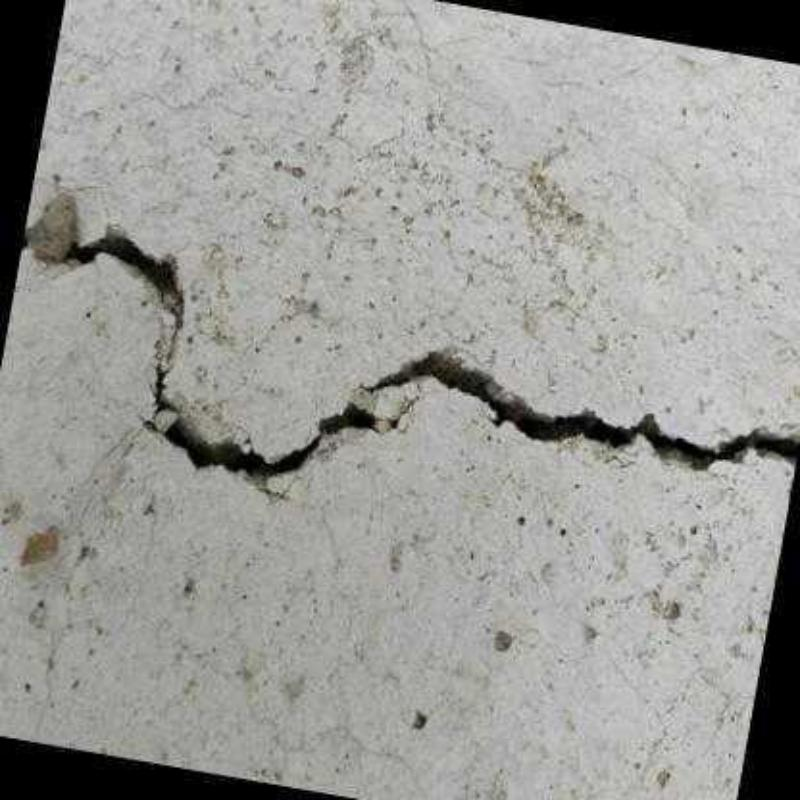crack: (20, 193, 411, 489), (355, 351, 799, 469)
